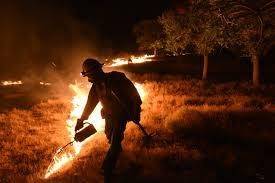fire: (66, 79, 105, 137), (103, 52, 155, 67)
